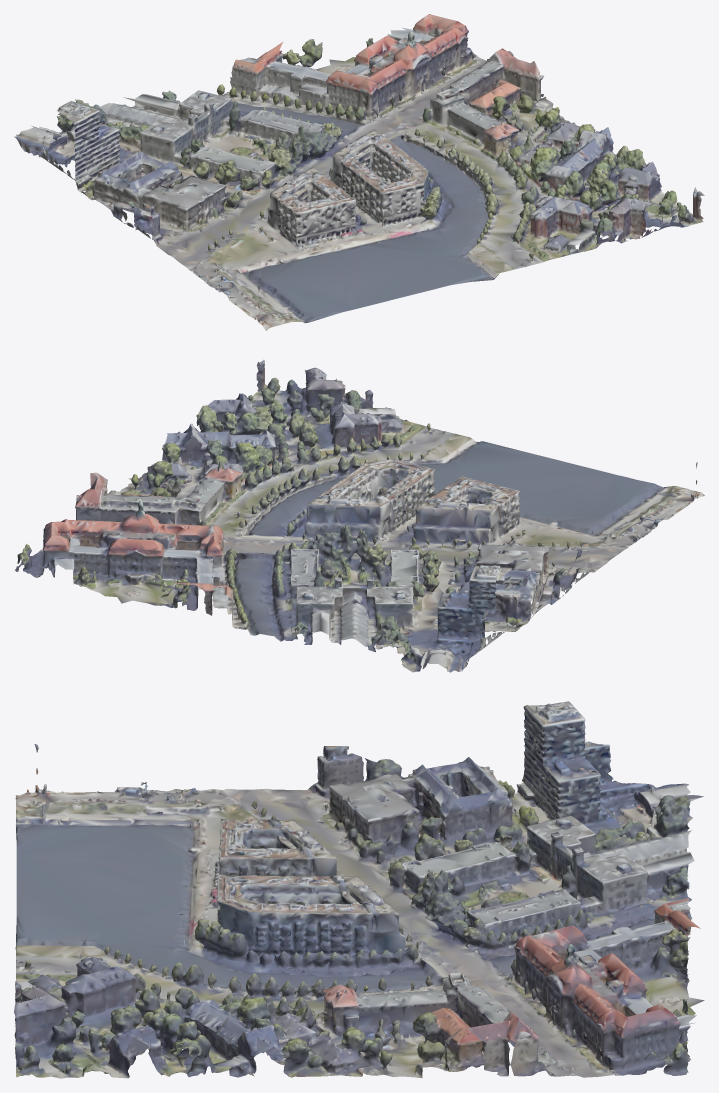
File: surface-detail-3894_58207.glb
3 views of the same model, one above another, from view 1: azimuth 30°, elevation 25°; view 2: azimuth 150°, elevation 25°; view 3: azimuth 270°, elevation 25° (orthographic). The views are drawn at different scales.
Parts seen in each view (by area): view 1: world; view 2: world; view 3: world.
Boxes of the visible parts, x1,y1,x2,y2 form: world: (14,14,704,330); world: (14,359,704,672); world: (14,701,704,1078).
Size of the model in its own units: 366 by 61.35 by 371.
